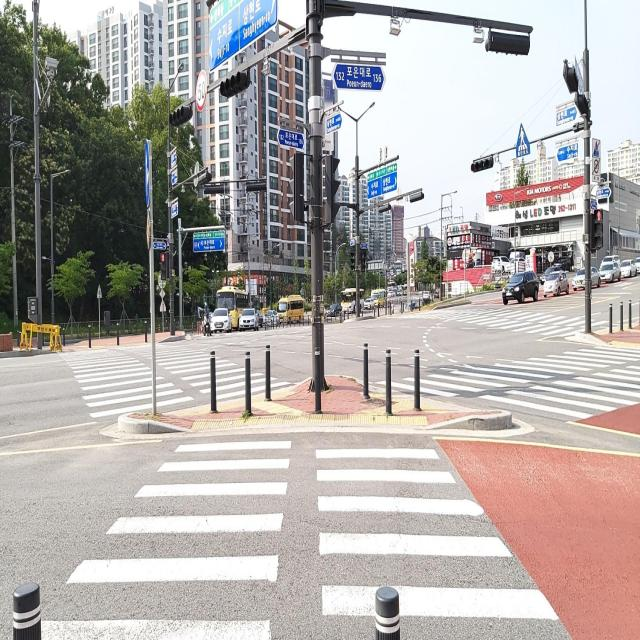빨간불: (592, 204, 603, 250), (160, 254, 168, 282)
횡단보도: (37, 434, 563, 640), (374, 312, 640, 422), (44, 325, 283, 420)
